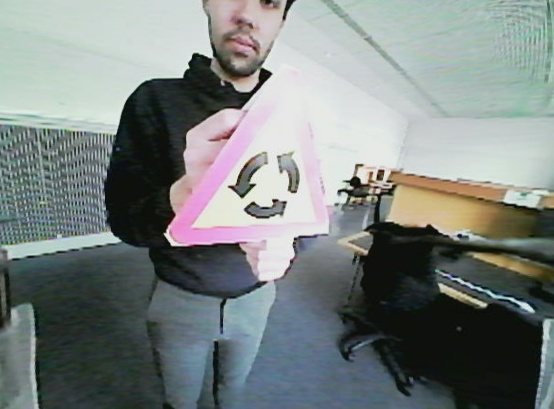roundabout_warning: (152, 63, 343, 253)
